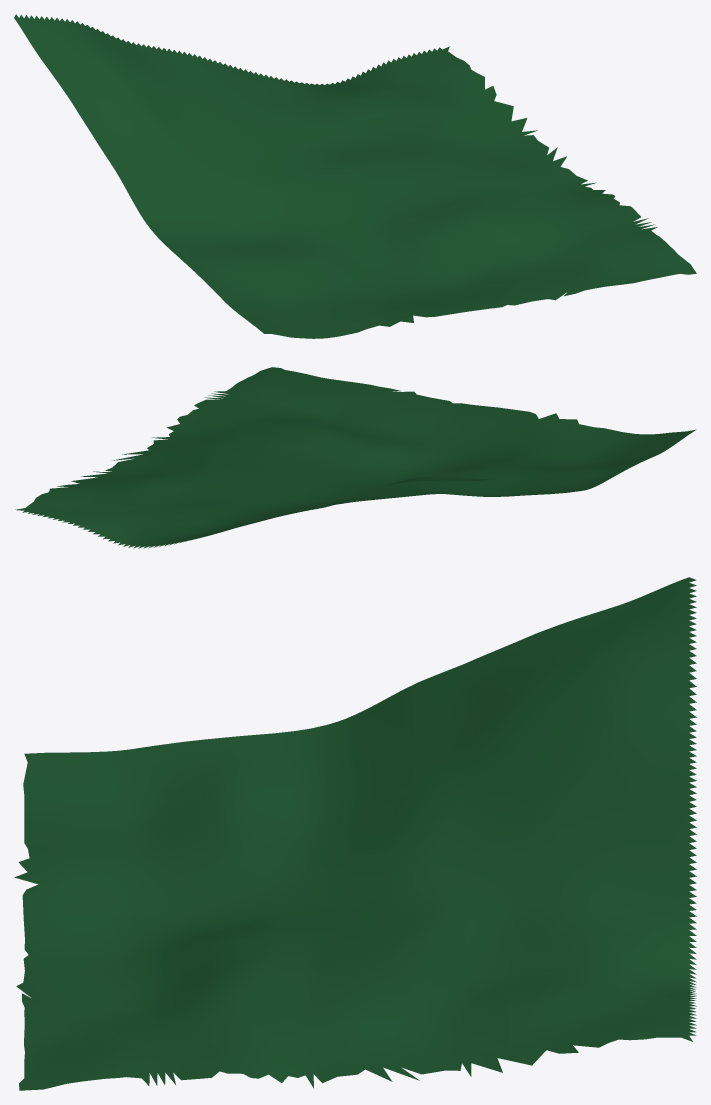
Rendered from payo_land_xm3_y2_lod1.glb.
3 renders of one model, top to bottom at view 1: azimuth 30°, elevation 25°; view 2: azimuth 150°, elevation 25°; view 3: azimuth 270°, elevation 25°, orthographic. The views are drawn at different scales.
Visible parts, largest first — view 1: payo_land_xm3_y2; view 2: payo_land_xm3_y2; view 3: payo_land_xm3_y2.
Part boxes in pixels (x1,y1,x2,y2): payo_land_xm3_y2: (14, 14, 696, 338); payo_land_xm3_y2: (15, 367, 696, 548); payo_land_xm3_y2: (14, 577, 696, 1090).
Size of the model in its own units: 261 by 99.35 by 262.
